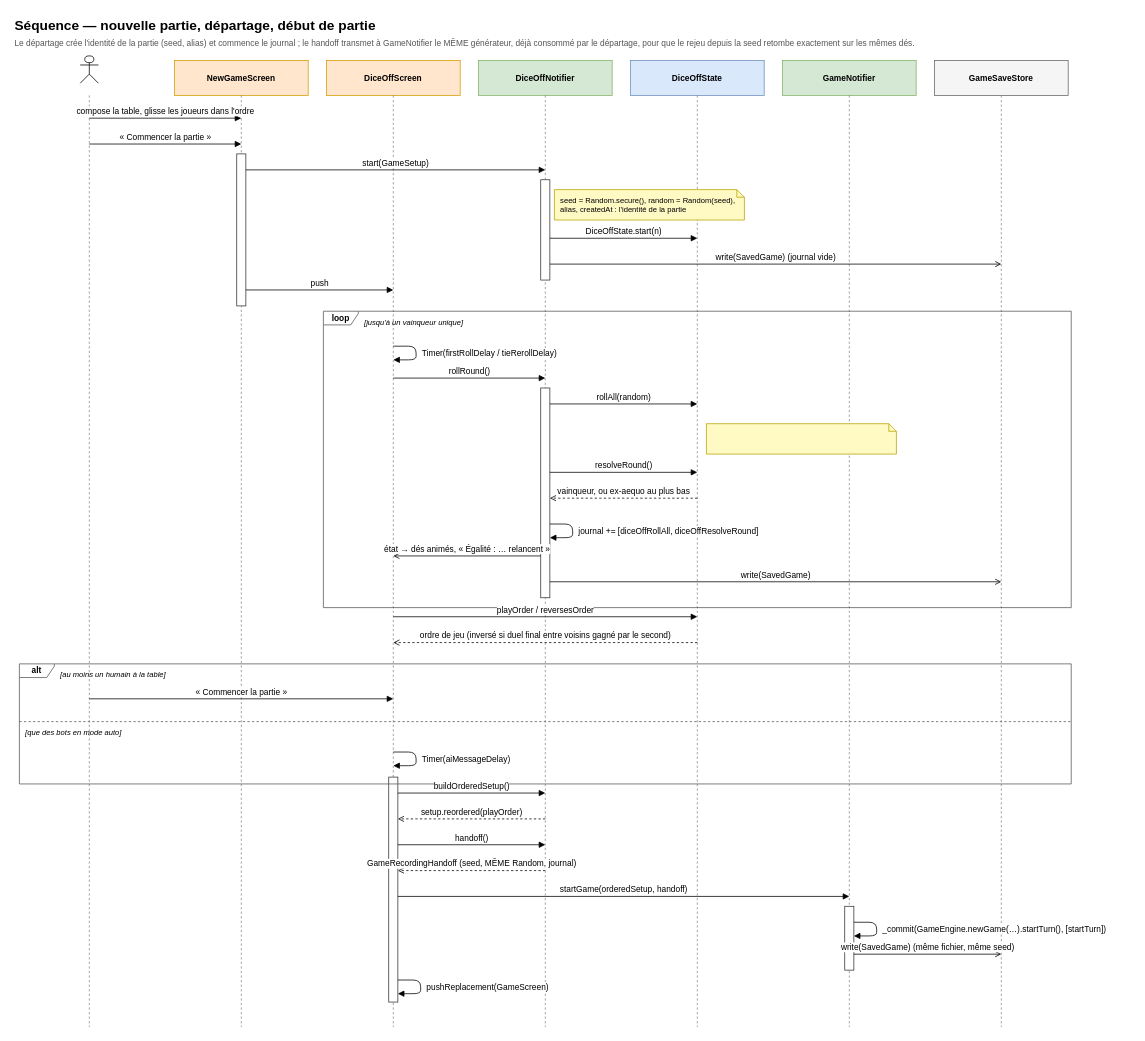
Image size: 1145x1041. Some labels were removed from this diagram. The shapes that lost their labels are listed below. From the top down, each one's centre as x and y in pixels, then its label:
At (x=88, y=69): "Joueur".
At (x=801, y=438): "un dé par joueur encore en lice, tirés dans l'ordre des sièges".
